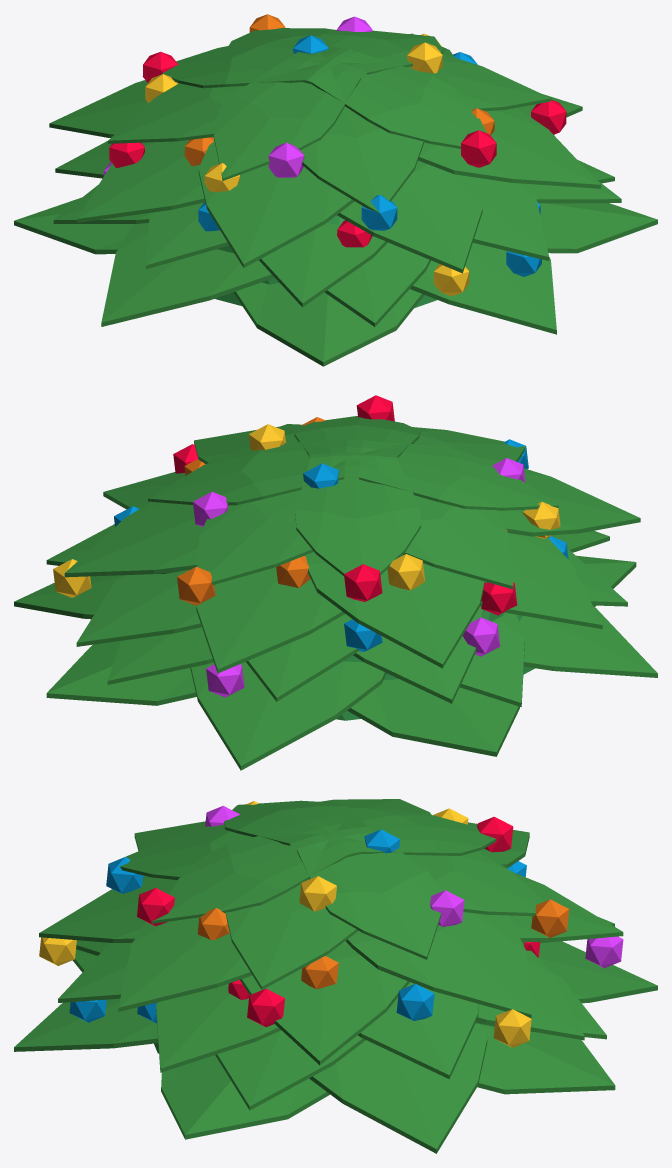
The model's file is BushLLeafsFruits.fbx.
The picture shows the model from 3 angles, top to bottom: view 1: azimuth 30°, elevation 25°; view 2: azimuth 150°, elevation 25°; view 3: azimuth 270°, elevation 25°; orthographic projection. The views are drawn at different scales.
Visible parts, largest first — view 1: BushLLeafsFruits; view 2: BushLLeafsFruits; view 3: BushLLeafsFruits.
Part boxes in pixels (<box>): BushLLeafsFruits: <box>14,14,657,366</box>; BushLLeafsFruits: <box>14,395,657,770</box>; BushLLeafsFruits: <box>14,799,657,1153</box>.
Bounding box in the file's own units: 977 × 320 × 989.
